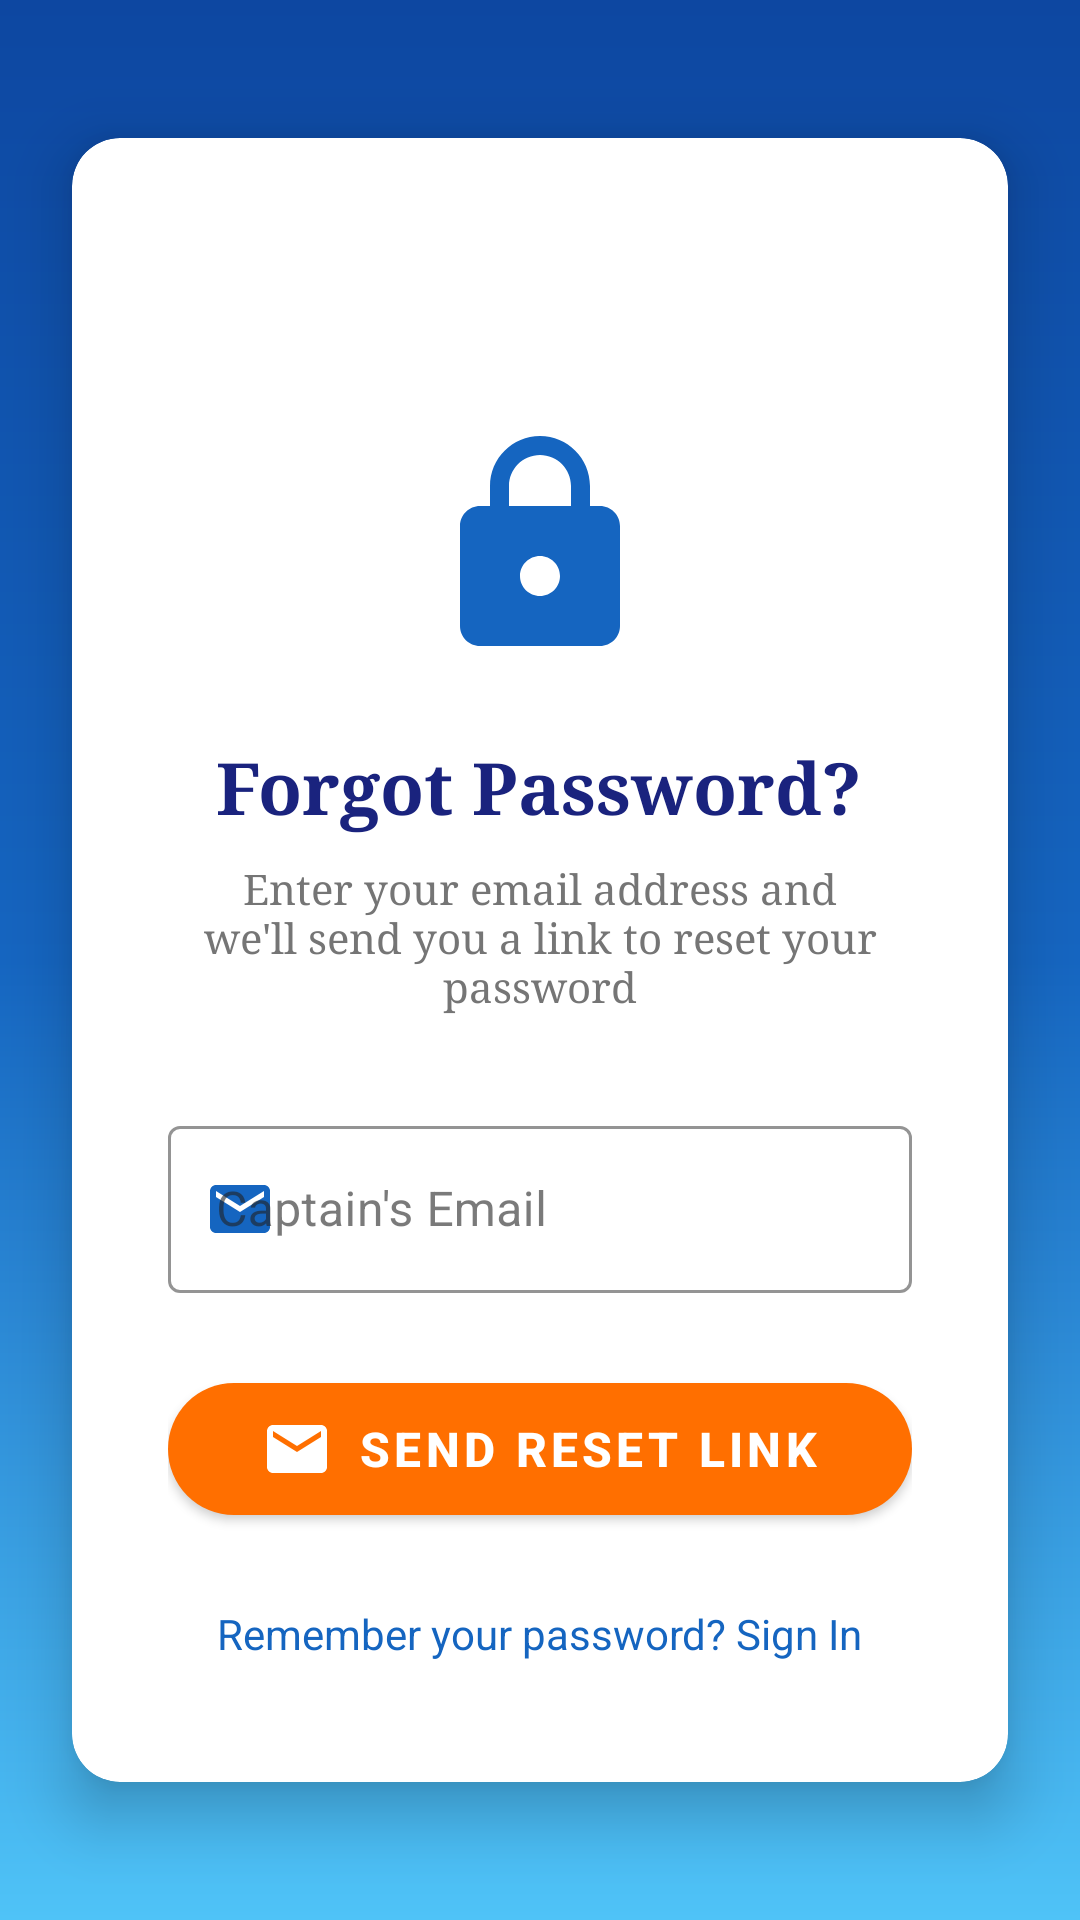

Where to tap for icons on this 1080 x 1920 app screen, as (x=x, y=y):
Password Reset: (x=540, y=541)
